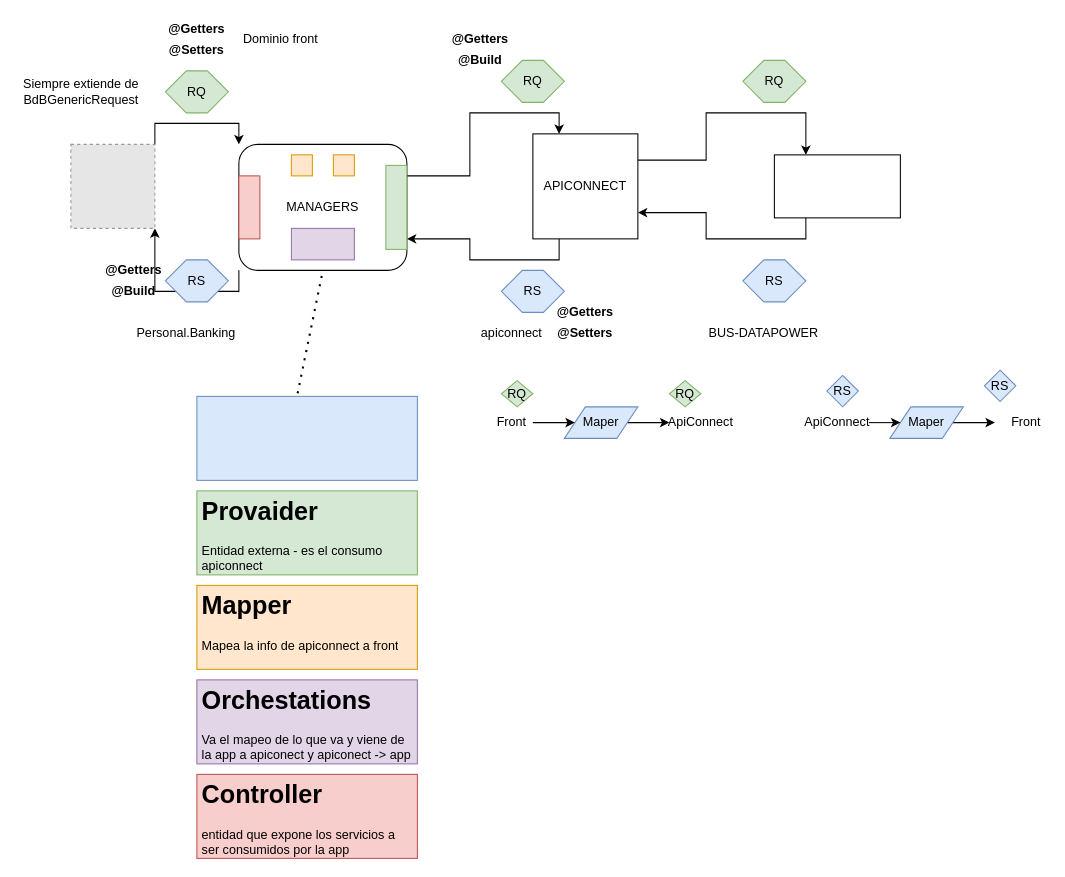
Some shapes in this 1065 by 877 pixel diagram are drawn without their labels. Grey dashed boxes stand in for pictures. The centre of each missing label's shape, as x and y in pixels:
Bus: the point at 836,186
Models INPUT / OUTPUT apiconect/BdB hace las veces de intermediario: the point at 306,437
